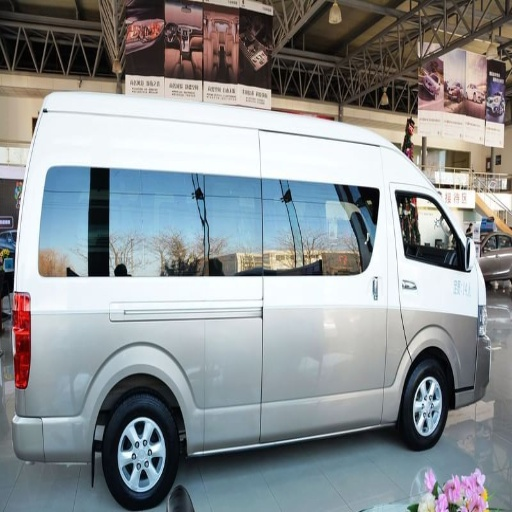back_right_door: (387, 179, 437, 266)
trunk: (20, 282, 310, 455), (373, 283, 477, 390)
